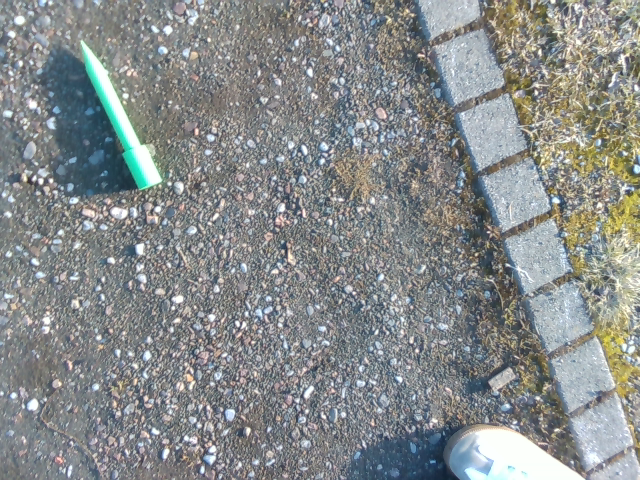Probe: (76, 37, 165, 196)
